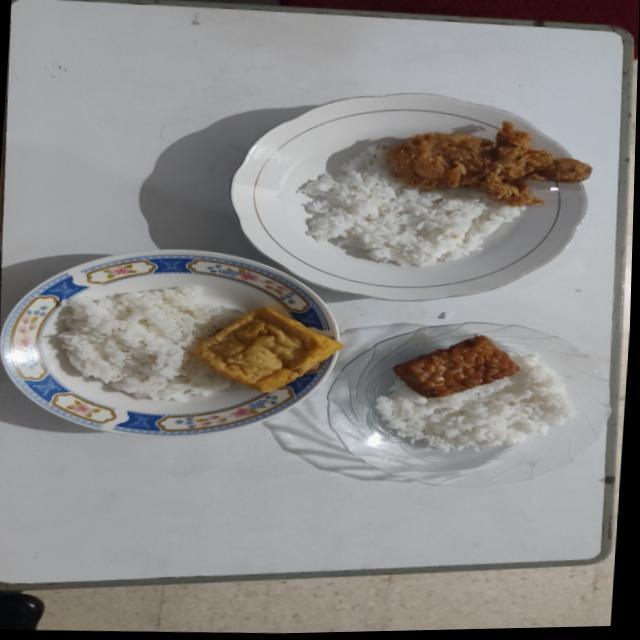nasi_putih: (298, 144, 523, 266), (56, 286, 232, 401), (375, 353, 573, 452)
tahu_goreng: (194, 307, 342, 392)
tempe_goreng: (393, 334, 518, 398)
